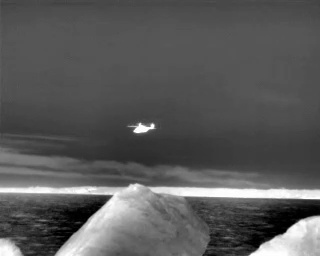HELICOPTER: (122, 116, 159, 140)
